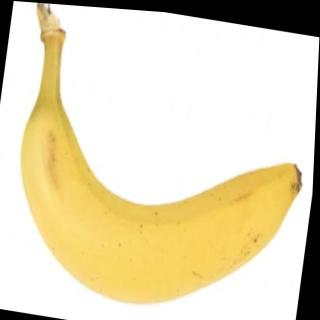banana: (3, 93, 311, 320)
